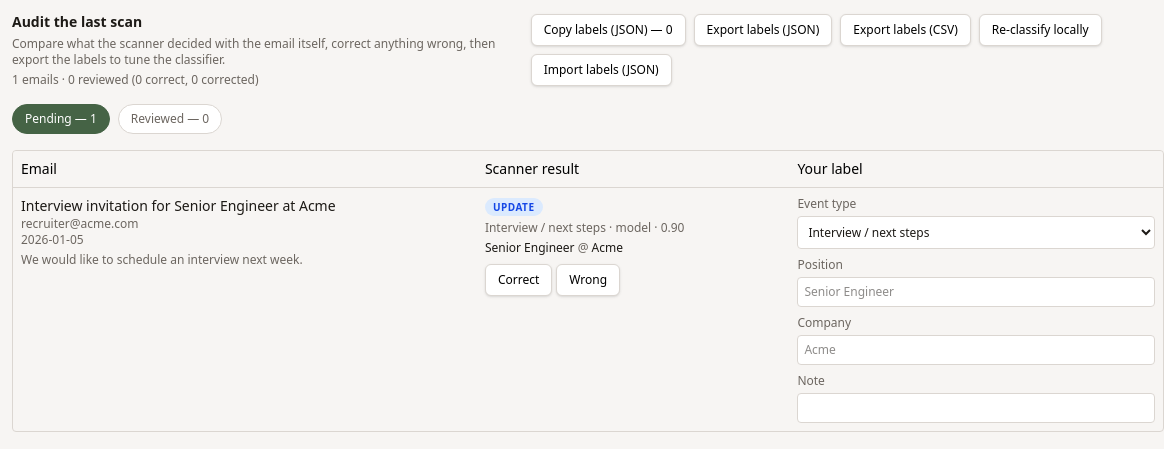
Test: EmailScanAuditTable › undoes a mark when the same button is clicked again
The width and height of the screenshot is (1164, 449).
Click the button with test id "audit-correct-m1". click: [519, 280]
box: [485,264,552,296]
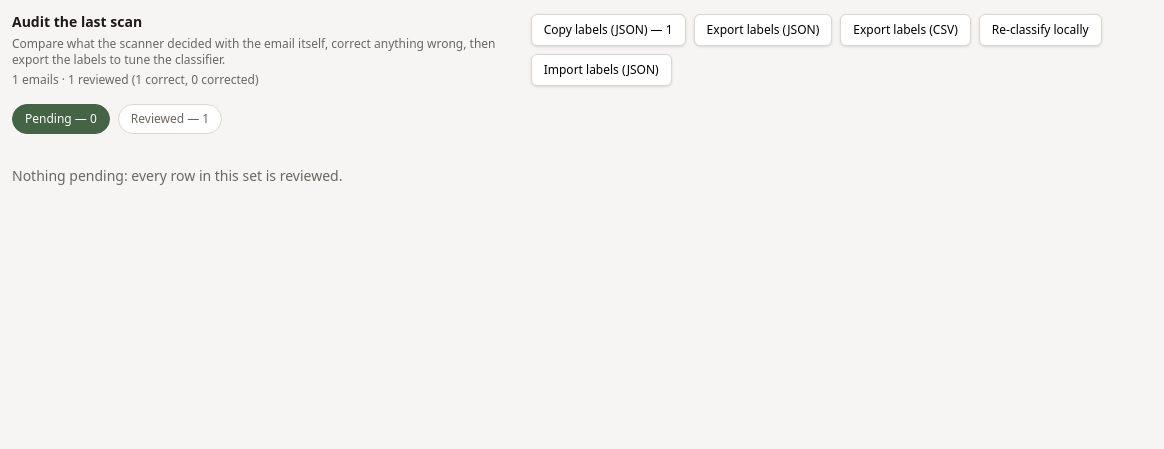
Click the tab with test id "audit-view-reviewed". click: [170, 119]
box: [118,104,222,134]
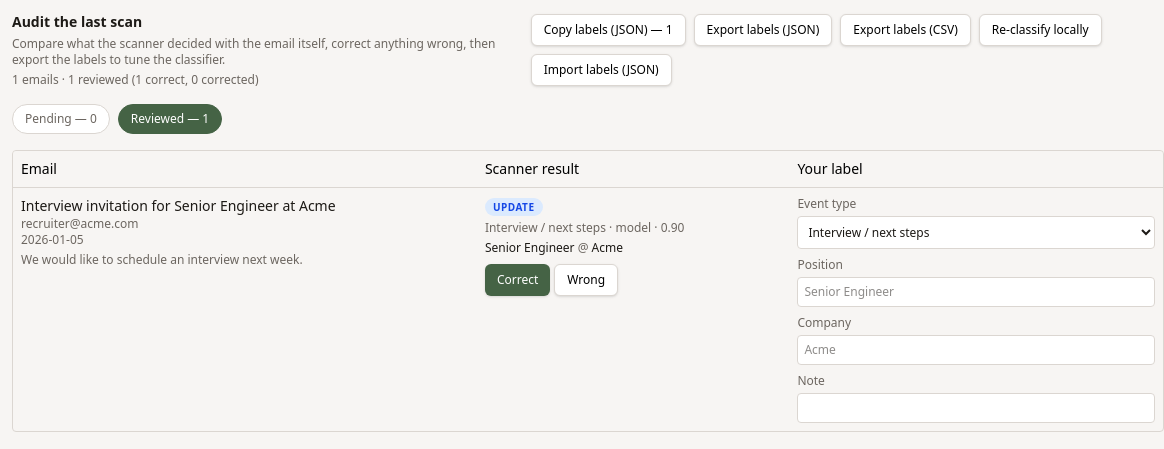
Click the button with test id "audit-correct-m1". click: [518, 280]
box: [485,264,550,296]
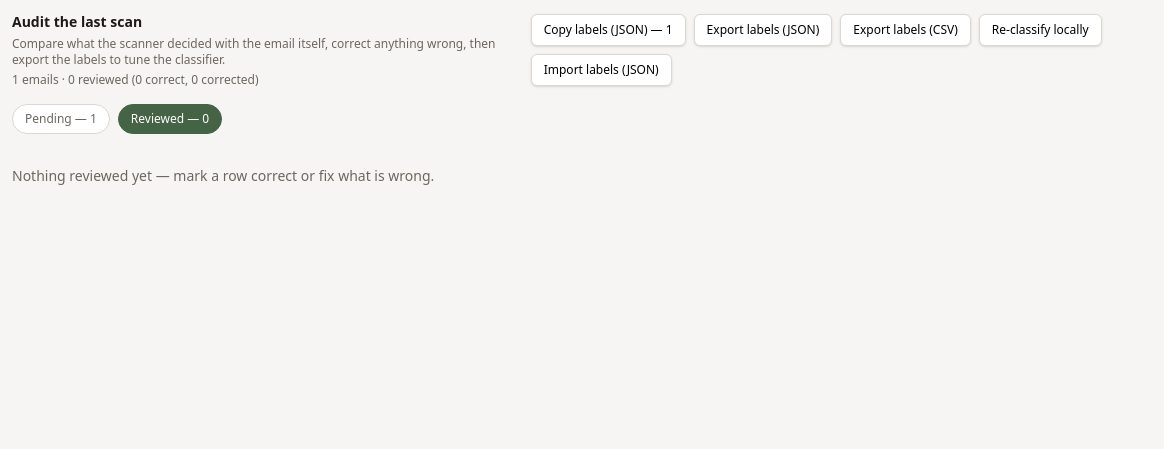
Now the text with test id "audit-stats" shows "0 reviewed", box [12,71,258,88]
